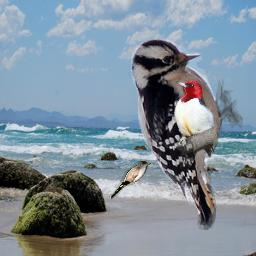Cuckoo: (109, 161, 151, 200)
Woodpecker: (131, 39, 243, 230), (172, 80, 217, 170)
